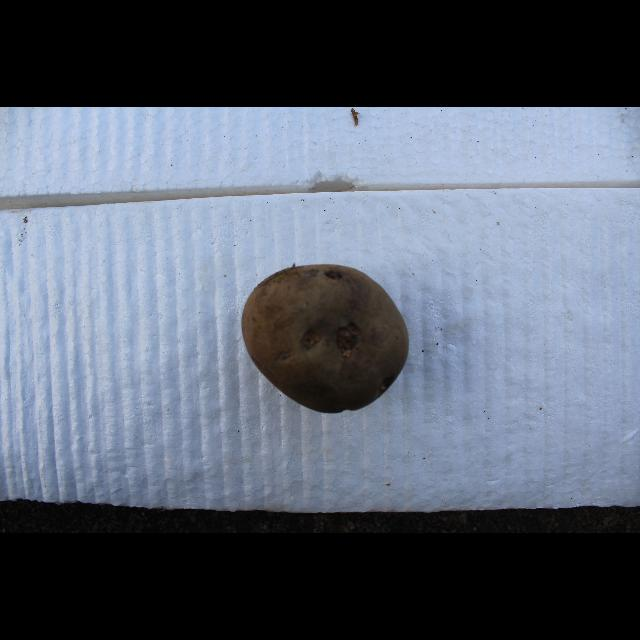Diseased-fungal potato: (226, 222, 400, 376)
